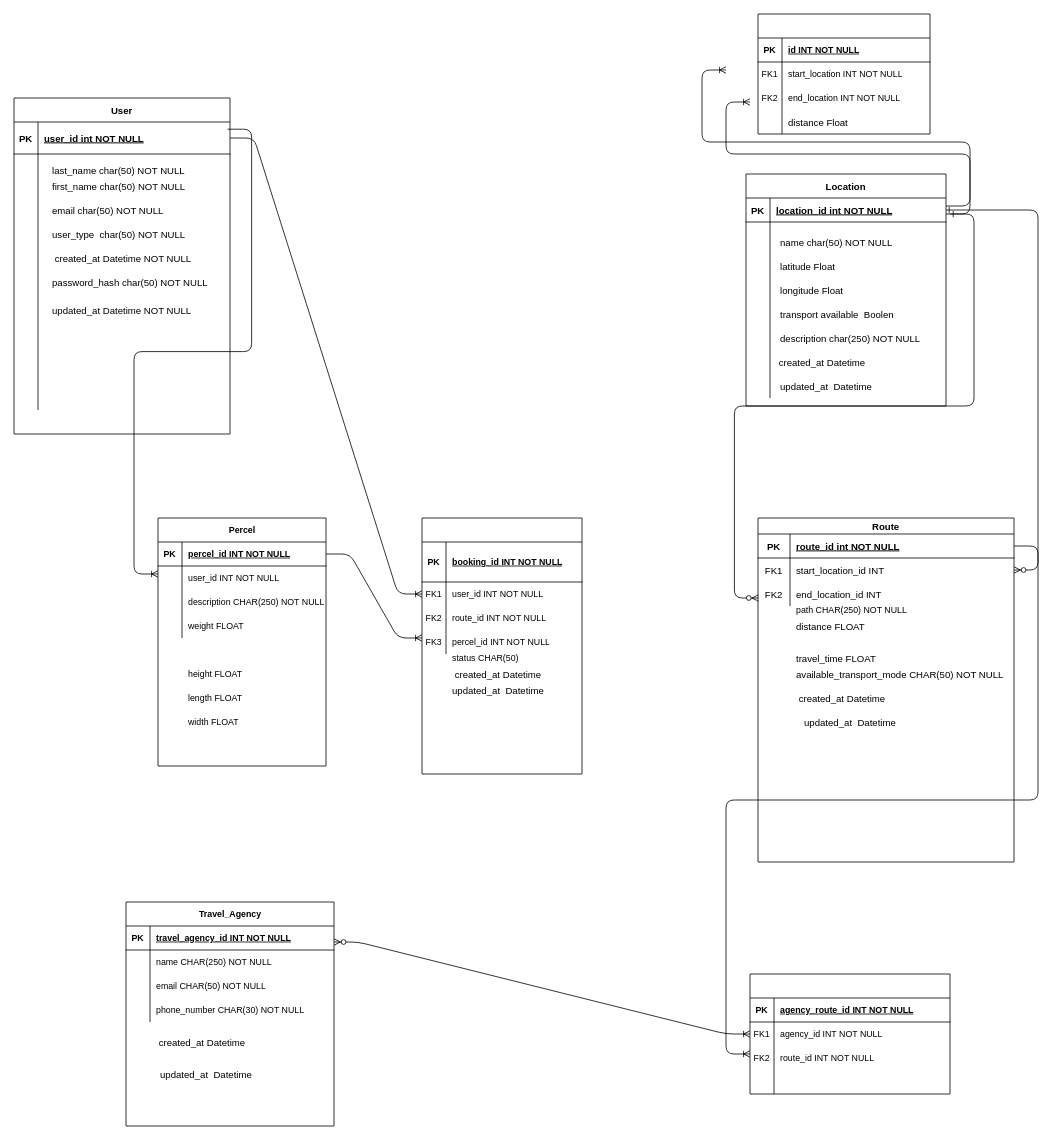
Image size: 1059x1140. Some labels were removed from this diagram. The box of each missing label's shape, as (x1, y1, x2, y2) in pixels:
AgenncyRoutes: (749, 973, 950, 1094)
Booking/Order: (421, 517, 582, 774)
LocationDirectLink: (757, 13, 930, 134)
